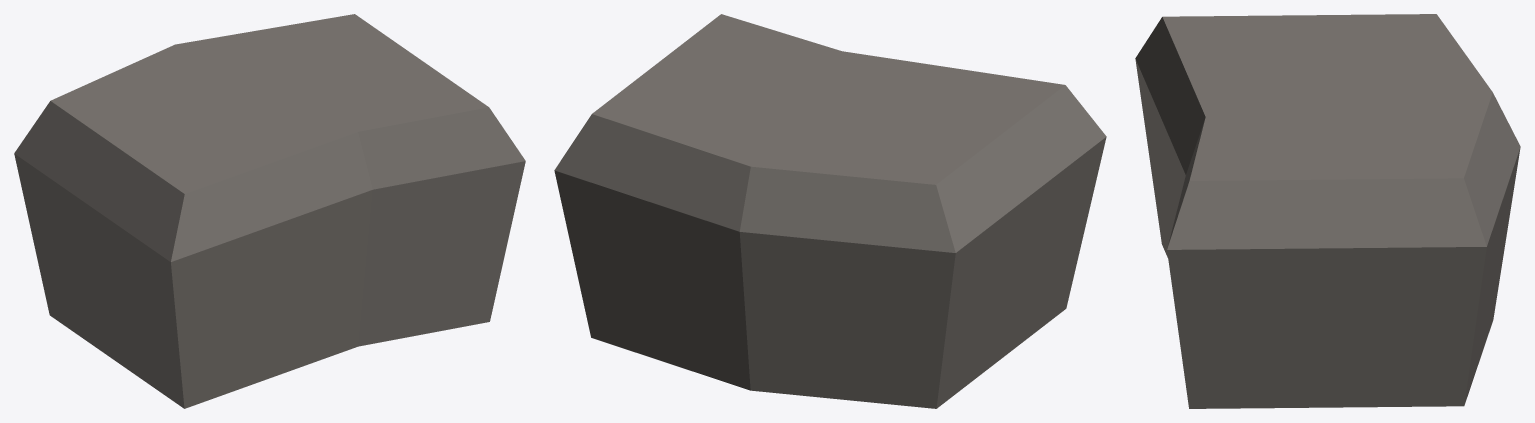
File: squarerock4.fbx
The picture shows the model from 3 angles, left to right: view 1: azimuth 30°, elevation 25°; view 2: azimuth 150°, elevation 25°; view 3: azimuth 270°, elevation 25°; orthographic projection. The views are drawn at different scales.
Visible parts, largest first — view 1: SquareRock4; view 2: SquareRock4; view 3: SquareRock4.
Part boxes in pixels (bbox=[...]): SquareRock4: bbox=[14, 14, 525, 408]; SquareRock4: bbox=[554, 14, 1106, 408]; SquareRock4: bbox=[1135, 14, 1520, 408].
Size of the model in its own units: 0.7952 by 0.4337 by 0.6651.
